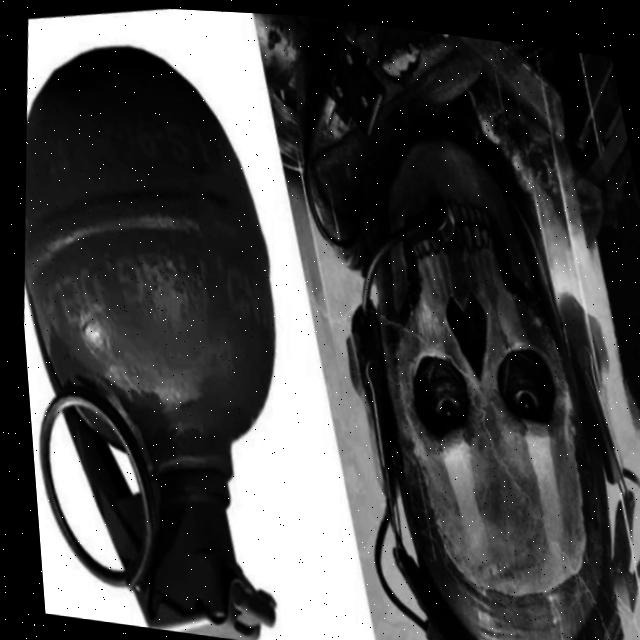grenade: (1, 10, 374, 640)
